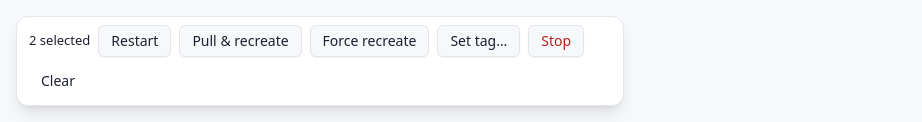
Scenario: BulkBar › shows a human success message instead of the raw action key (M-7)
What coordinates should you click on to do the following:
click the button "Pull & recreate"
I would click on:
 (240, 41)
Its box is x1=179 y1=25 x2=302 y2=57.
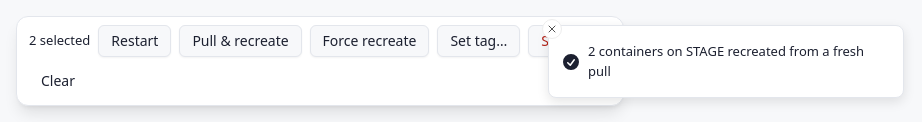
Expected: the text "2 containers on STAGE recreated from a fresh pull" is shown, x1=588 y1=42 x2=887 y2=81
